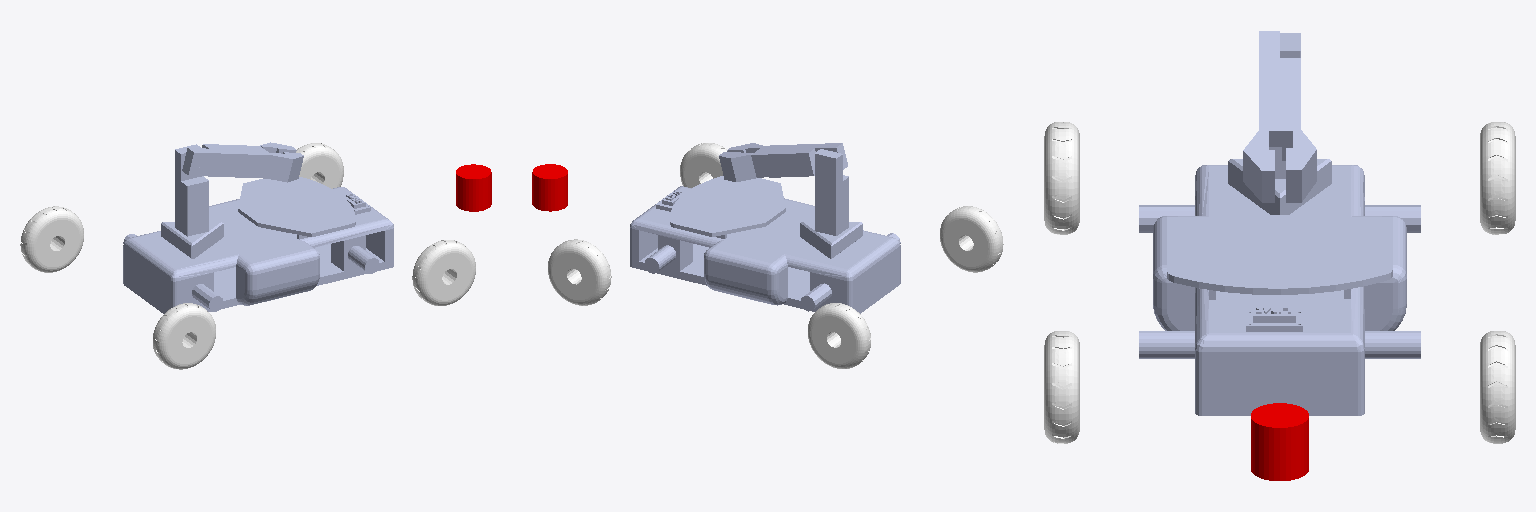
URDF robot description (six):
<?xml version="1.0" encoding="utf-8"?>
<!-- This URDF was automatically created by SolidWorks to URDF Exporter! Originally created by [author] ([email redacted]) 
     Commit Version: 1.6.0-4-g7f85cfe  Build Version: 1.6.7995.38578
     For more information, please see http://wiki.ros.org/sw_urdf_exporter -->
<robot
  name="six">
  <link
    name="base_link">
    <inertial>
      <origin
        xyz="-0.0119090912083531 8.4984409054404E-05 0.0423942810406298"
        rpy="0 0 0" />
      <mass
        value="105.564993059326" />
      <inertia
        ixx="4.20513009209965"
        ixy="0.0134358395892136"
        ixz="-0.194865924125848"
        iyy="11.0601963023685"
        iyz="-0.00511185176563676"
        izz="13.454262276326" />
    </inertial>
    <visual>
      <origin
        xyz="0 0 0"
        rpy="0 0 0" />
      <geometry>
        <mesh
          filename="package://six/meshes/base_link.STL" />
      </geometry>
      <material
        name="l">
        <color
          rgba="0.792156862745098 0.819607843137255 0.933333333333333 1" />
      </material>
    </visual>
    <collision>
      <origin
        xyz="0 0 0"
        rpy="0 0 0" />
      <geometry>
        <mesh
          filename="package://six/meshes/base_link.STL" />
      </geometry>
    </collision>
  </link>
  <link
    name="link_rb">
    <inertial>
      <origin
        xyz="-1.52166612643612E-11 0.0499994312484847 -2.53794728288792E-11"
        rpy="0 0 0" />
      <mass
        value="6.86394677263579" />
      <inertia
        ixx="0.0486340780001551"
        ixy="8.94936539307187E-12"
        ixz="8.63565720978465E-12"
        iyy="0.0869593911567191"
        iyz="2.8145540103692E-11"
        izz="0.0486340780038043" />
    </inertial>
    <visual>
      <origin
        xyz="0 0 0"
        rpy="0 0 0" />
      <geometry>
        <mesh
          filename="package://six/meshes/link_rb.STL" />
      </geometry>
      <material
        name="">
        <color
          rgba="1 1 1 1" />
      </material>
    </visual>
    <collision>
      <origin
        xyz="0 0 0"
        rpy="0 0 0" />
      <geometry>
        <mesh
          filename="package://six/meshes/link_rb.STL" />
      </geometry>
    </collision>
  </link>
  <joint
    name="joint_rb"
    type="continuous">
    <origin
      xyz="-0.4486 -0.39992 -0.030718"
      rpy="0 0 0" />
    <parent
      link="base_link" />
    <child
      link="link_rb" />
    <axis
      xyz="0 1 0" />
  </joint>
  <link
    name="link_lb">
    <inertial>
      <origin
        xyz="1.25177090914974E-11 -0.0499994312484748 2.54926878218154E-11"
        rpy="0 0 0" />
      <mass
        value="6.86394677267223" />
      <inertia
        ixx="0.0486340779941603"
        ixy="1.00471706054397E-11"
        ixz="4.20028396768673E-12"
        iyy="0.0869593911579852"
        iyz="2.33574040253059E-11"
        izz="0.0486340780096409" />
    </inertial>
    <visual>
      <origin
        xyz="0 0 0"
        rpy="0 0 0" />
      <geometry>
        <mesh
          filename="package://six/meshes/link_lb.STL" />
      </geometry>
      <material
        name="">
        <color
          rgba="1 1 1 1" />
      </material>
    </visual>
    <collision>
      <origin
        xyz="0 0 0"
        rpy="0 0 0" />
      <geometry>
        <mesh
          filename="package://six/meshes/link_lb.STL" />
      </geometry>
    </collision>
  </link>
  <joint
    name="joint_lb"
    type="continuous">
    <origin
      xyz="-0.4486 0.40008 -0.030718"
      rpy="0 0 0" />
    <parent
      link="base_link" />
    <child
      link="link_lb" />
    <axis
      xyz="0 1 0" />
  </joint>
  <link
    name="link_rf">
    <inertial>
      <origin
        xyz="2.88922219482401E-11 0.0499994312485906 3.73488739935368E-12"
        rpy="0 0 0" />
      <mass
        value="6.86394677264213" />
      <inertia
        ixx="0.0486340780109953"
        ixy="-2.88614034703621E-11"
        ixz="-1.18281906759627E-12"
        iyy="0.0869593911566334"
        iyz="-7.25300719216216E-12"
        izz="0.0486340779925056" />
    </inertial>
    <visual>
      <origin
        xyz="0 0 0"
        rpy="0 0 0" />
      <geometry>
        <mesh
          filename="package://six/meshes/link_rf.STL" />
      </geometry>
      <material
        name="">
        <color
          rgba="1 1 1 1" />
      </material>
    </visual>
    <collision>
      <origin
        xyz="0 0 0"
        rpy="0 0 0" />
      <geometry>
        <mesh
          filename="package://six/meshes/link_rf.STL" />
      </geometry>
    </collision>
  </link>
  <joint
    name="joint_rf"
    type="continuous">
    <origin
      xyz="0.3914 -0.39992 -0.030718"
      rpy="0 0 0" />
    <parent
      link="base_link" />
    <child
      link="link_rf" />
    <axis
      xyz="0 1 0" />
  </joint>
  <link
    name="link_lf">
    <inertial>
      <origin
        xyz="1.1845247005482E-11 -0.0499994312484017 2.59869417651437E-11"
        rpy="0 0 0" />
      <mass
        value="6.86394677267259" />
      <inertia
        ixx="0.0486340779946045"
        ixy="1.01004933890448E-11"
        ixz="4.01302156450457E-12"
        iyy="0.0869593911582054"
        iyz="2.21907287031965E-11"
        izz="0.0486340780094871" />
    </inertial>
    <visual>
      <origin
        xyz="0 0 0"
        rpy="0 0 0" />
      <geometry>
        <mesh
          filename="package://six/meshes/link_lf.STL" />
      </geometry>
      <material
        name="">
        <color
          rgba="1 1 1 1" />
      </material>
    </visual>
    <collision>
      <origin
        xyz="0 0 0"
        rpy="0 0 0" />
      <geometry>
        <mesh
          filename="package://six/meshes/link_lf.STL" />
      </geometry>
    </collision>
  </link>
  <joint
    name="joint_lf"
    type="continuous">
    <origin
      xyz="0.3914 0.40008 -0.030718"
      rpy="0 0 0" />
    <parent
      link="base_link" />
    <child
      link="link_lf" />
    <axis
      xyz="0 1 0" />
  </joint>
    <!-- Link cho LIDAR -->
  <link name="lidar_link">
    <visual>
      <geometry>
        <cylinder radius="0.05" length="0.1"/>
      </geometry>
      <material>
        <color rgba="1 0 0 1"/>
      </material>
    </visual>
    <collision>
      <geometry>
        <cylinder radius="0.05" length="0.1"/>
      </geometry>
    </collision>
    <inertial>
      <mass value="0.1"/>
      <inertia ixx="0.001" ixy="0" ixz="0" iyy="0.001" iyz="0" izz="0.001"/>
    </inertial>
  </link>
  <joint name="lidar_joint" type="fixed">
    <parent link="base_link"/>
    <child link="lidar_link"/>
    <origin xyz="0.7 0 0.01" rpy="0 0 0"/>
  </joint>
  <gazebo reference="lidar_link">
    <material>Gazebo/Red</material>
  </gazebo>

  <!-- Plugin Skid-Steer Drive -->
  <gazebo>
    <plugin name="skid_steer_drive_controller" filename="libgazebo_ros_skid_steer_drive.so">
      <updateRate>100.0</updateRate>
      <robotNamespace>/</robotNamespace>
      <leftFrontJoint>joint_lf</leftFrontJoint>
      <rightFrontJoint>joint_rf</rightFrontJoint>
      <leftRearJoint>joint_lb</leftRearJoint>
      <rightRearJoint>joint_rb</rightRearJoint>
      <wheelSeparation>2.0</wheelSeparation>
      <wheelDiameter>0.5</wheelDiameter>
      <robotBaseFrame>base_link</robotBaseFrame>
      <torque>200</torque>
      <topicName>cmd_vel</topicName>
      <gaussianNoise>0.0</gaussianNoise>
      <broadcastTF>false</broadcastTF>
    </plugin>
  </gazebo>

  <!-- Plugin IMU -->
  <gazebo reference="base_link">
    <sensor name="imu_sensor" type="imu">
      <always_on>true</always_on>
      <update_rate>20.0</update_rate>
      <pose>0 0 0 0 -1.5708 0</pose>
      <plugin name="imu_plugin" filename="libgazebo_ros_imu_sensor.so">
        <topicName>imu/data</topicName>
        <frameName>base_link</frameName>
        <gaussianNoise>0.0</gaussianNoise>
        <initialOrientationAsReference>false</initialOrientationAsReference>
      </plugin>
    </sensor>
  </gazebo>

  <!-- Cảm biến LIDAR -->
  <gazebo reference="lidar_link">
    <sensor type="ray" name="lidar_sensor">
      <pose>0 0 0 0 0 0</pose>
      <visualize>true</visualize>
      <update_rate>180</update_rate>
      <ray>
        <scan>
          <horizontal>
            <samples>720</samples>
            <resolution>1</resolution>
            <min_angle>-1.5708</min_angle>
            <max_angle>1.5708</max_angle>
          </horizontal>
        </scan>
        <range>
          <min>0.1</min>
          <max>20.0</max>
          <resolution>0.01</resolution>
        </range>
        <noise>
          <type>gaussian</type>
          <mean>0.0</mean>
          <stddev>0.01</stddev>
        </noise>
      </ray>
      <plugin name="gazebo_ros_laser" filename="libgazebo_ros_laser.so">
        <topicName>/scan</topicName>
        <frameName>lidar_link</frameName>
      </plugin>
    </sensor>
  </gazebo>

  <!-- Plugin Joint State Publisher -->
  <gazebo>
    <plugin name="joint_state_publisher" filename="libgazebo_ros_joint_state_publisher.so">
      <robotNamespace>/</robotNamespace>
      <updateRate>100.0</updateRate>
      <jointName>joint_rf, joint_lf, joint_rb, joint_lb</jointName>
      <topicName>/joint_states</topicName>
    </plugin>
  </gazebo>

  <!-- Plugin Diff Drive (tuỳ chọn nếu muốn thay thế Skid-Steer) -->
  <gazebo>
    <plugin name="diff_drive_controller" filename="libgazebo_ros_diff_drive.so">
      <leftJoint>joint_lb</leftJoint>
      <rightJoint>joint_rb</rightJoint>
      <wheelSeparation>2.0</wheelSeparation>
      <wheelDiameter>0.5</wheelDiameter>
      <robotBaseFrame>base_link</robotBaseFrame>
      <odomTopic>/odom</odomTopic>
      <publishWheelTF>false</publishWheelTF>
      <publishOdomTF>true</publishOdomTF>
    </plugin>
  </gazebo>
  <gazebo>
  <plugin name="differential_drive_controller" filename="libgazebo_ros_diff_drive.so">
    <rosNamespace></rosNamespace>
    <commandTopic>cmd_vel</commandTopic>
    <odometryTopic>odom</odometryTopic>
    <odometryFrame>odom</odometryFrame>
    <robotBaseFrame>base_link</robotBaseFrame>
    <publishWheelTF>false</publishWheelTF>
    <publishWheelJointState>false</publishWheelJointState>
    <legacyMode>false</legacyMode>
    <wheelSeparation>0.4</wheelSeparation>
    <wheelDiameter>0.2</wheelDiameter>
    <broadcastTF>1</broadcastTF>
    <updateRate>100.0</updateRate>
  </plugin>
</gazebo>
</robot>

--- What the picture shows (computed from the rendered views, not written in the file) ---
Views: 3 orthographic renders of the robot side by side, from view 1: azimuth 30°, elevation 25°; view 2: azimuth 150°, elevation 25°; view 3: azimuth 270°, elevation 25°.
Model six with 6 links and 5 joints (4 continuous, 1 fixed), rooted at base_link, posed all joints at 0.
Visible links, largest first — view 1: base_link, link_lb, link_rf, link_rb, lidar_link, link_lf; view 2: base_link, link_lf, link_rb, link_lb, lidar_link, link_rf; view 3: base_link, lidar_link, link_rb, link_lb, link_rf, link_lf.
Link boxes in pixels (<box>): base_link: <box>123,142,393,313</box>; link_lb: <box>20,206,83,272</box>; link_rf: <box>412,240,475,305</box>; link_rb: <box>153,303,215,369</box>; lidar_link: <box>456,164,491,211</box>; link_lf: <box>296,143,343,188</box>; base_link: <box>630,143,900,313</box>; link_lf: <box>548,239,611,305</box>; link_rb: <box>940,206,1003,272</box>; link_lb: <box>808,303,870,368</box>; lidar_link: <box>532,164,567,211</box>; link_rf: <box>680,143,726,187</box>; base_link: <box>1139,31,1420,415</box>; lidar_link: <box>1251,403,1308,480</box>; link_rb: <box>1044,122,1079,234</box>; link_lb: <box>1480,122,1515,234</box>; link_rf: <box>1044,331,1079,443</box>; link_lf: <box>1480,331,1515,443</box>.
Size in the robot's own frame: 1.29 by 0.8 by 0.4768 metres.
5 mesh visuals loaded from 5 distinct referenced files (5 binary STL).
